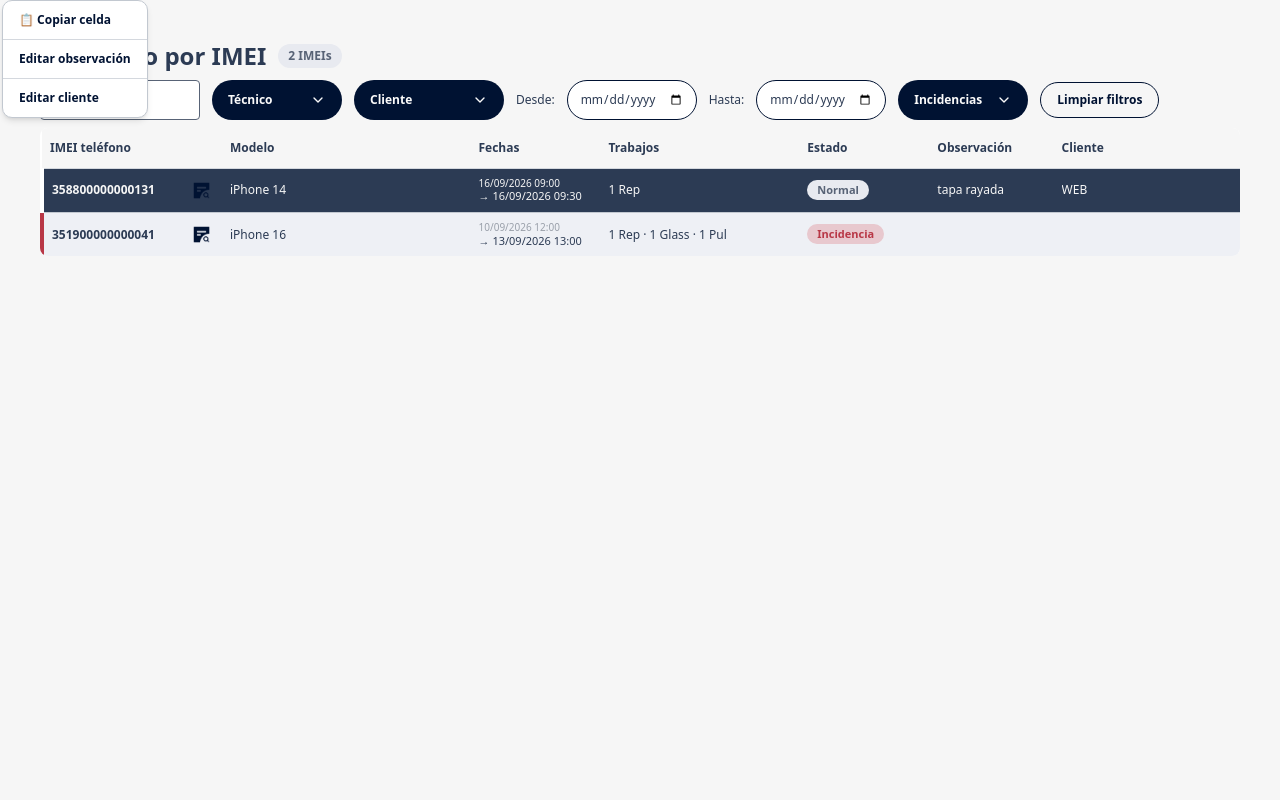
Scenario: ImeisPage — maestro (ficha docs/paridad/imeis.md) › "Editar observación": si el guardado falla, el diálogo sigue abierto con lo escrito; si sale bien, se cierra
The image size is (1280, 800).
Click the menu item "Editar observación".
click(75, 58)  # box left=19, top=50, right=131, bottom=67
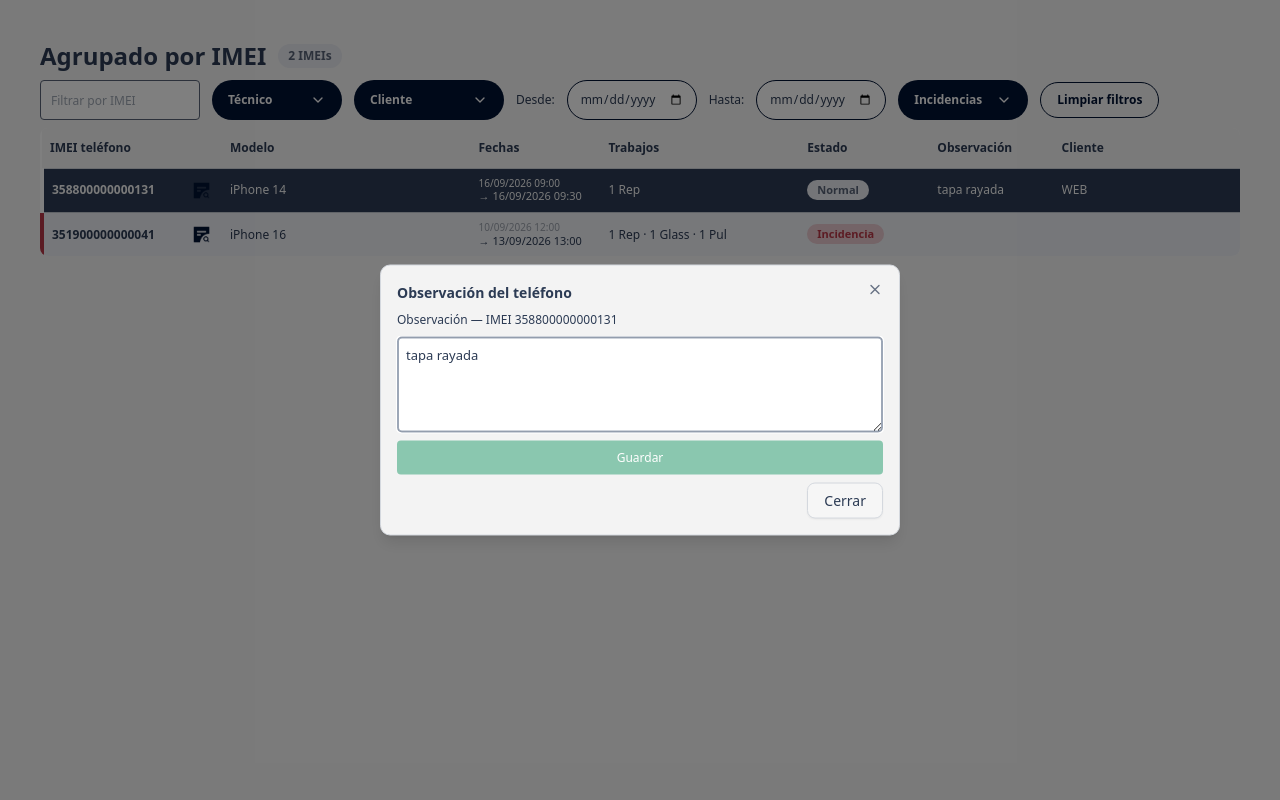
Replace the text in the text box labelled "Observación — IMEI 358800000000131" with "pantalla con rayas" at (640,384), box left=397, top=336, right=883, bottom=432
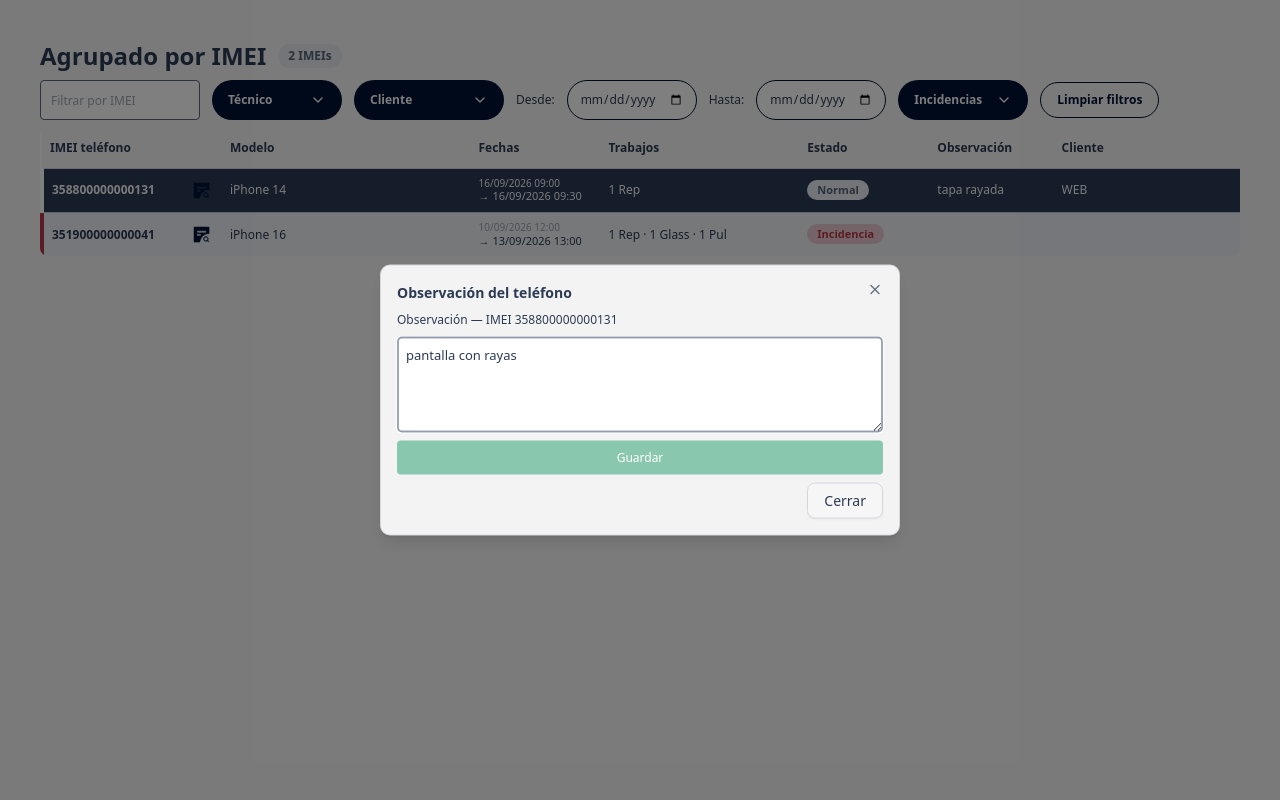
Click the button "Guardar".
click(640, 458)  # box left=397, top=440, right=883, bottom=474
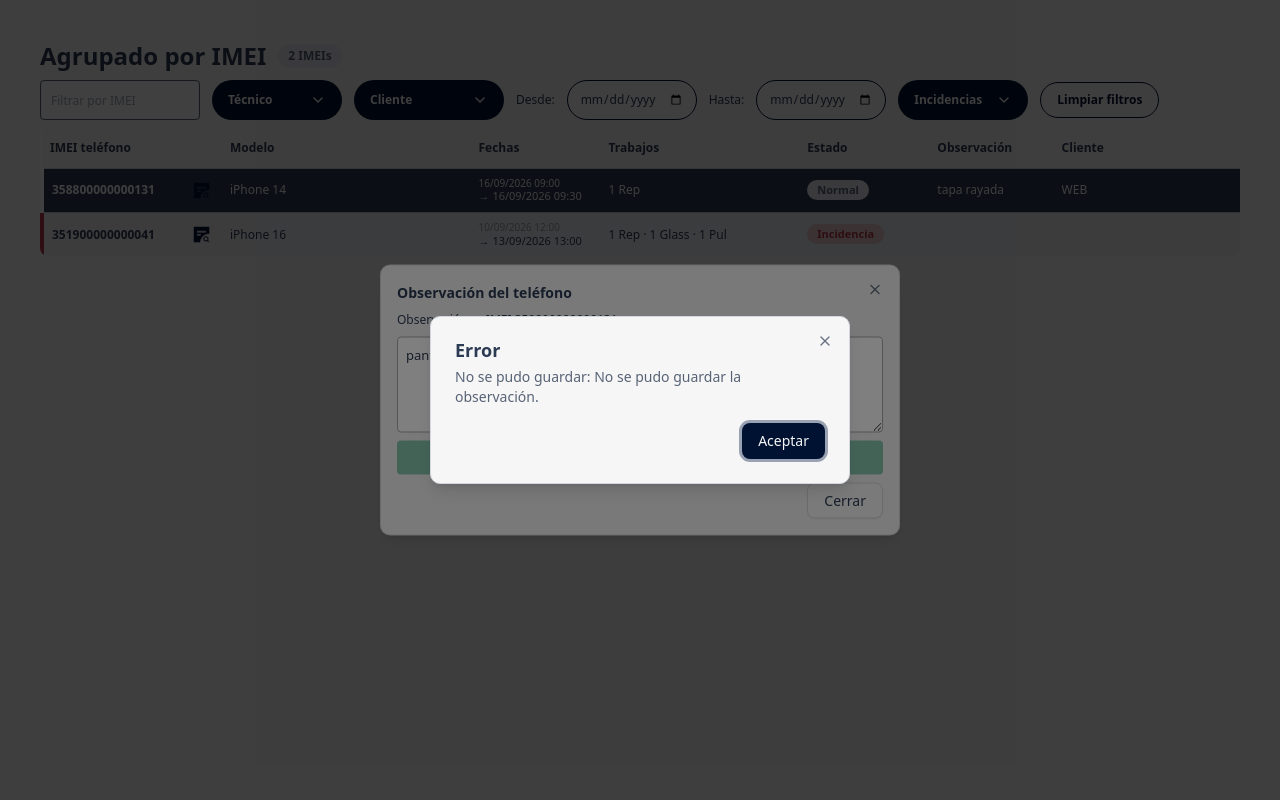
Now the dialog "Observación del teléfono" is shown, box left=380, top=264, right=900, bottom=536
Now the dialog "Error" shows "No se pudo guardar: No se pudo guardar la observación.", box left=455, top=367, right=741, bottom=406
Click the button "Aceptar".
click(784, 441)  # box left=742, top=423, right=825, bottom=459
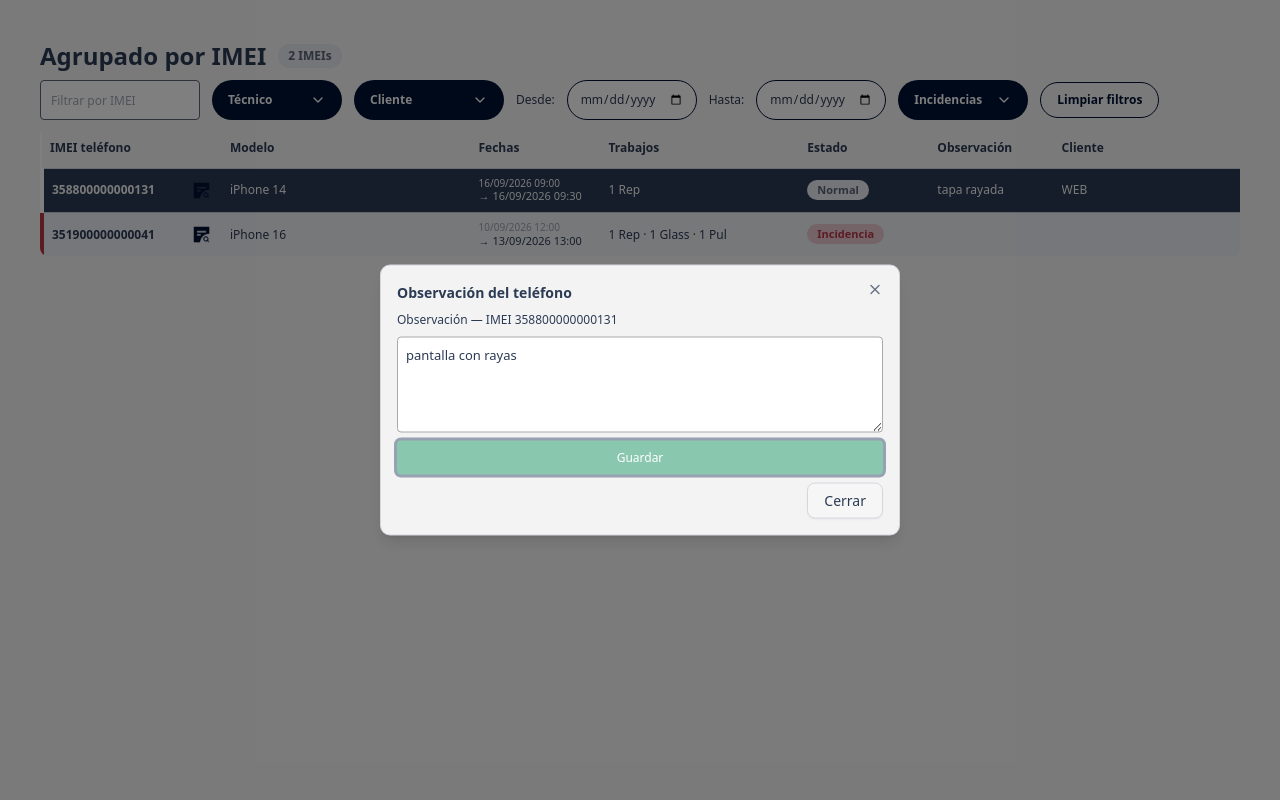
Now the heading "Error" is gone
Click the button "Guardar".
click(640, 458)  # box left=397, top=440, right=883, bottom=474
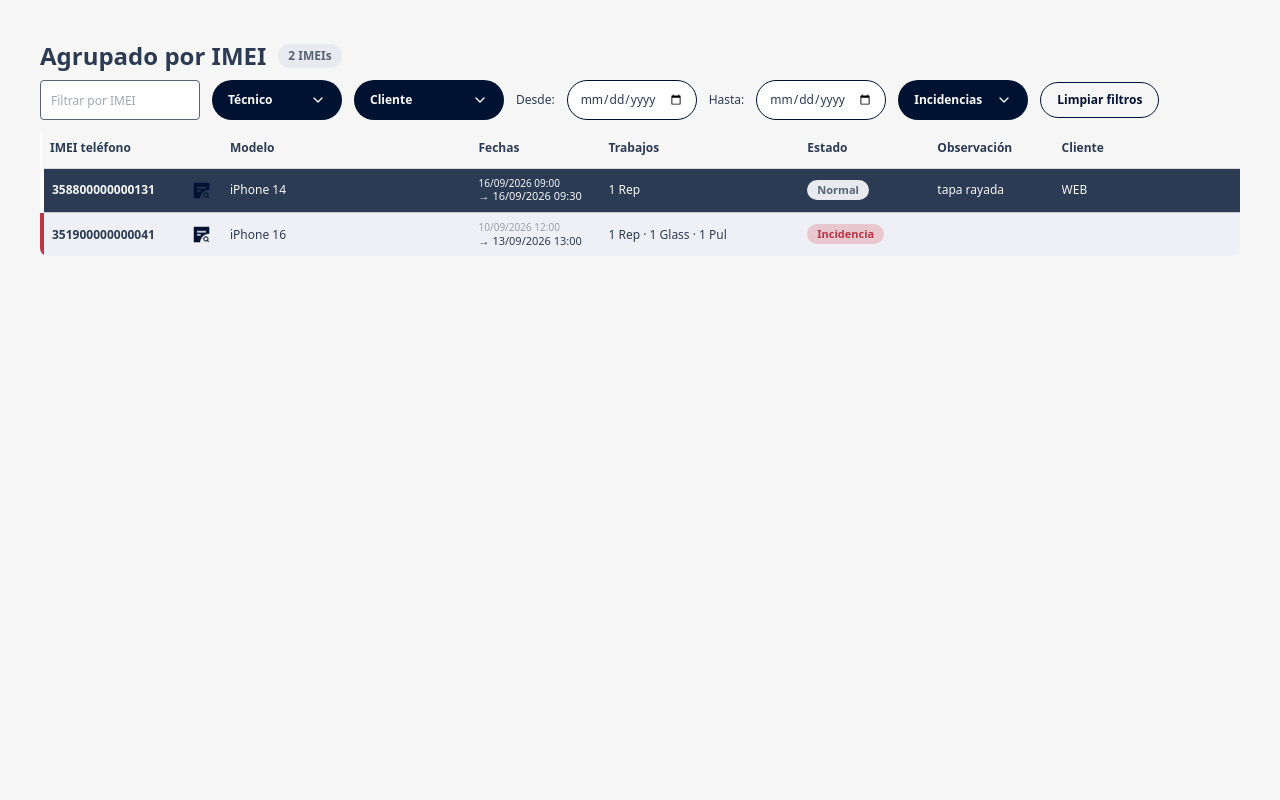
Now the heading "Observación del teléfono" is gone
